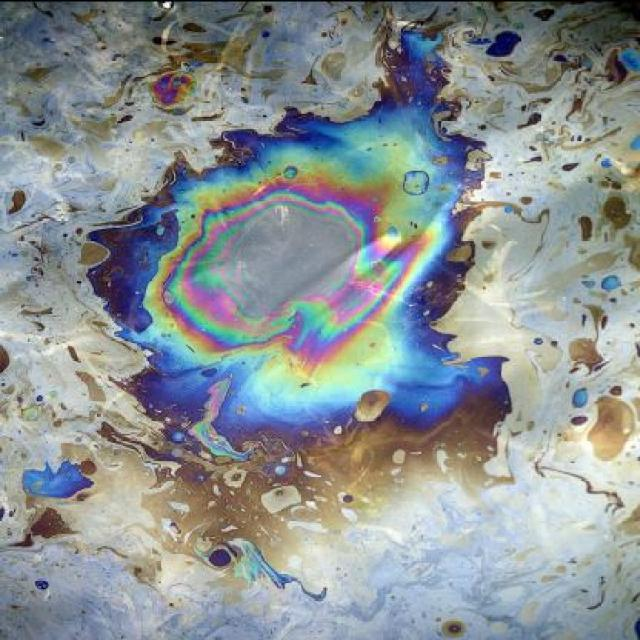rainbow: (88, 31, 508, 461)
